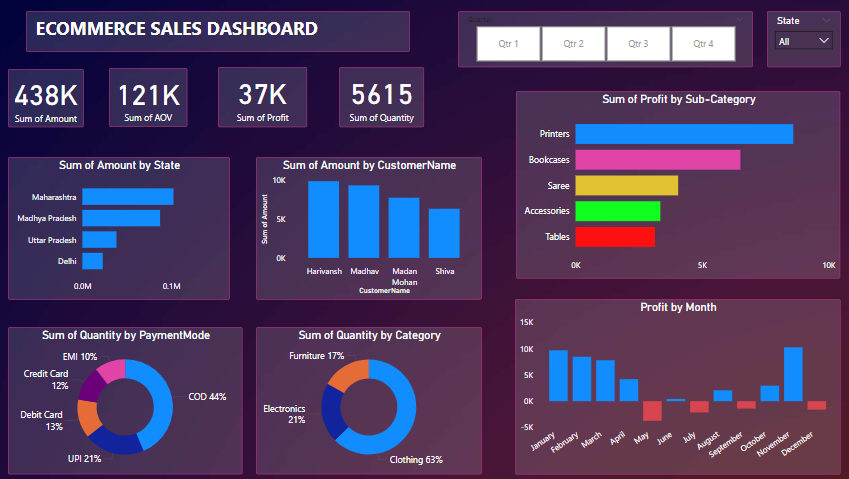

This screenshot's page, from the dashboard's own definition file:
{"tool":"powerbi","page":{"name":"Page 1","canvas":[1280,720],"ordinal":0},"visuals":[{"type":"textbox","box":[46.3,17.3,572.5,60.7],"z":0},{"type":"columnChart","title":" Profit by Month","fields":{"Category":["Orders.Order Date.Variation.Date Hierarchy.Month"],"Y":["Details.Profit"]},"box":[776.4,448.2,485.8,261.7],"z":1000},{"type":"barChart","fields":{"Category":["Details.Sub-Category"],"Y":["Details.Profit"]},"box":[777.8,137.3,484.3,280.5],"z":2000},{"type":"donutChart","fields":{"Category":["Details.Category"],"Y":["Details.Quantity"]},"box":[388.9,490.1,336.9,219.8],"z":3000},{"type":"donutChart","fields":{"Y":["Details.Quantity"],"Category":["Details.PaymentMode"]},"box":[18.8,490.1,349.9,219.8],"z":4000},{"type":"card","fields":{"Values":["Details.Amount"]},"box":[18.8,104.1,112.8,86.7],"z":5000},{"type":"card","fields":{"Values":["Details.Quantity"]},"box":[513.3,101.2,127.2,89.6],"z":6000},{"type":"card","fields":{"Values":["Details.AOV"]},"box":[170.6,102.7,117.1,88.2],"z":7000},{"type":"card","fields":{"Values":["Details.Profit"]},"box":[332.5,101.2,133,89.6],"z":8000},{"type":"barChart","fields":{"Category":["Orders.State"],"Y":["Details.Amount"]},"box":[18.8,235.7,331.1,212.5],"z":9000},{"type":"columnChart","fields":{"Category":["Orders.CustomerName"],"Y":["Details.Amount"]},"box":[388.9,235.7,336.9,212.5],"z":10000},{"type":"slicer","fields":{"Values":["Orders.Order Date.Variation.Date Hierarchy.Quarter"]},"box":[691.1,17.3,439.5,83.9],"z":11000},{"type":"slicer","fields":{"Values":["Orders.State"]},"box":[1152.3,17.3,109.9,83.9],"z":12000}]}

Visuals, with their boxes in screenshot pixels (x1, y1, x2, y2), scaled from the page's 1280x720 canvas onto the 849x479 screenshot:
textbox: detection(31, 12, 410, 52)
" Profit by Month" columnChart: detection(515, 298, 837, 472)
barChart - Details.Sub-Category x Details.Profit: detection(516, 91, 837, 278)
donutChart - Details.Category x Details.Quantity: detection(258, 326, 481, 472)
donutChart - Details.Quantity x Details.PaymentMode: detection(12, 326, 245, 472)
card - Details.Amount: detection(12, 69, 87, 127)
card - Details.Quantity: detection(340, 67, 425, 127)
card - Details.AOV: detection(113, 68, 191, 127)
card - Details.Profit: detection(221, 67, 309, 127)
barChart - Orders.State x Details.Amount: detection(12, 157, 232, 298)
columnChart - Orders.CustomerName x Details.Amount: detection(258, 157, 481, 298)
slicer - Orders.Order Date.Variation.Date Hierarchy.Quarter: detection(458, 12, 750, 67)
slicer - Orders.State: detection(764, 12, 837, 67)
